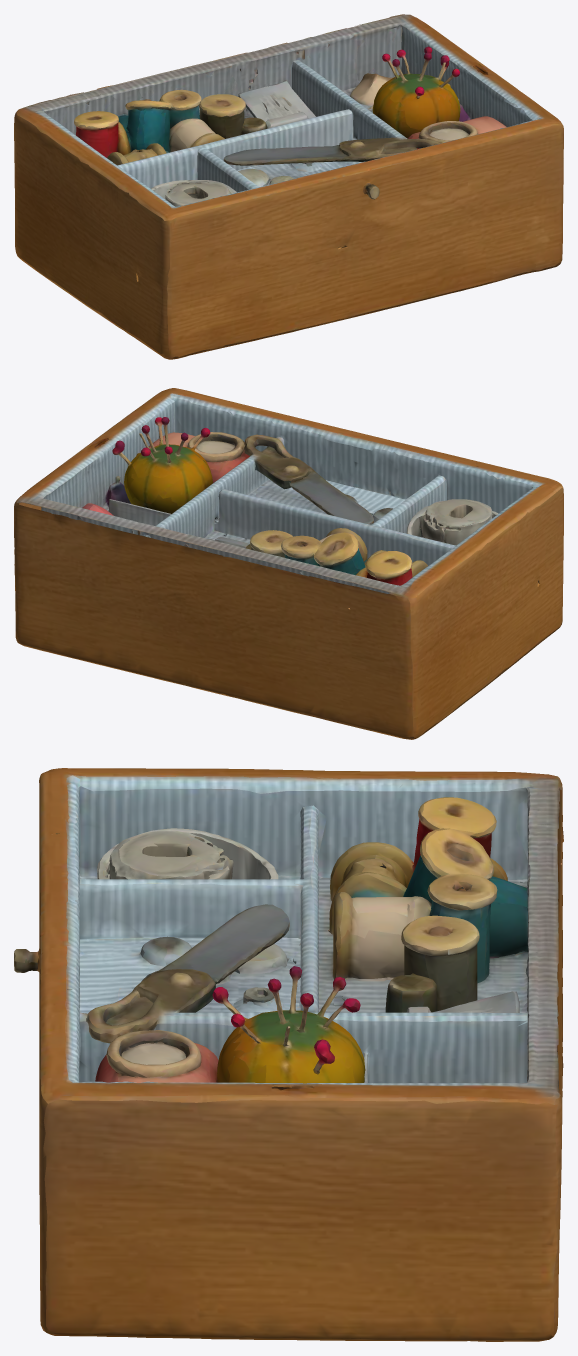
The picture shows the model from 3 angles, top to bottom: view 1: azimuth 30°, elevation 25°; view 2: azimuth 150°, elevation 25°; view 3: azimuth 270°, elevation 25°; orthographic projection. The views are drawn at different scales.
Visible parts, largest first — view 1: world; view 2: world; view 3: world.
Part boxes in pixels (x1,y1,x2,y2): world: [14, 14, 563, 359]; world: [14, 388, 563, 739]; world: [14, 768, 563, 1341].
Bounding box in the file's own units: 0.3167 × 0.1382 × 0.2217.
1 material, 1 textured.
